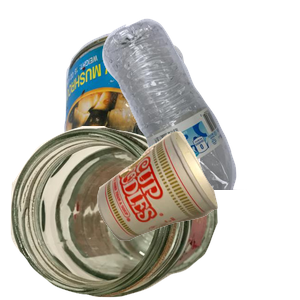glass: (10, 126, 220, 300)
metal: (60, 28, 300, 208)
plastic: (100, 16, 300, 196)
trash: (95, 129, 300, 300)
